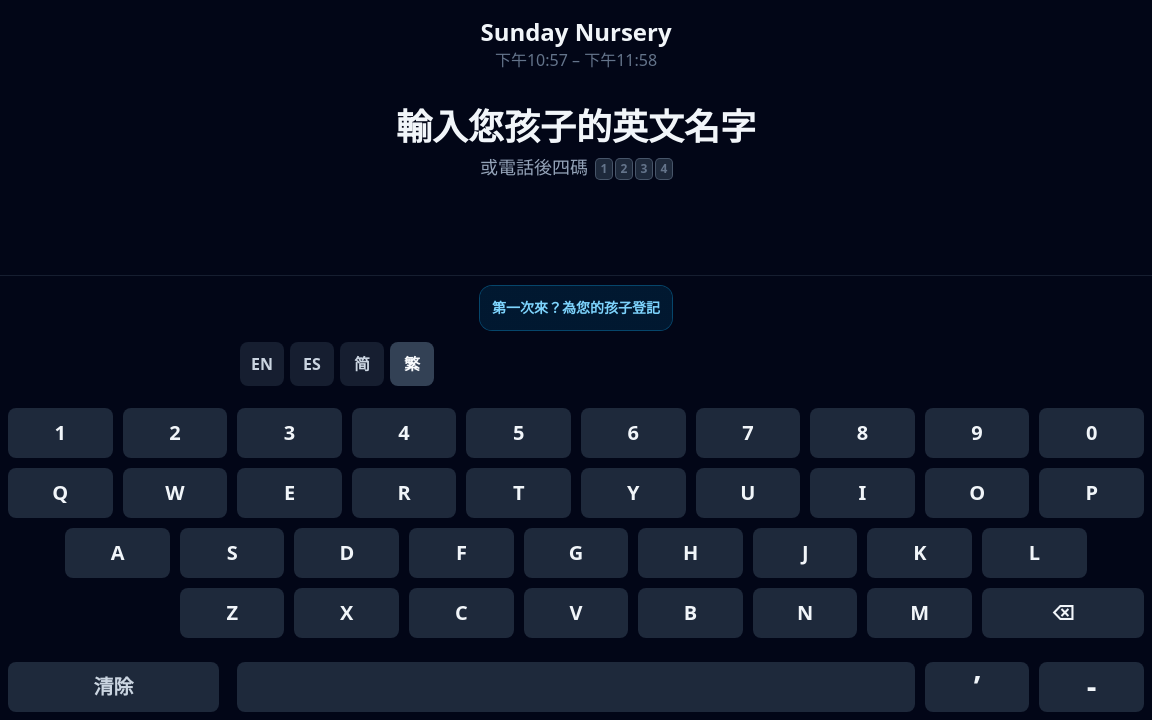
Test: a family’s language does not outlive their visit › keeps the language when a parent clears a mistyped name
Press the mouse on the button "Z" at coordinates (232, 613), box [180,588,284,638]
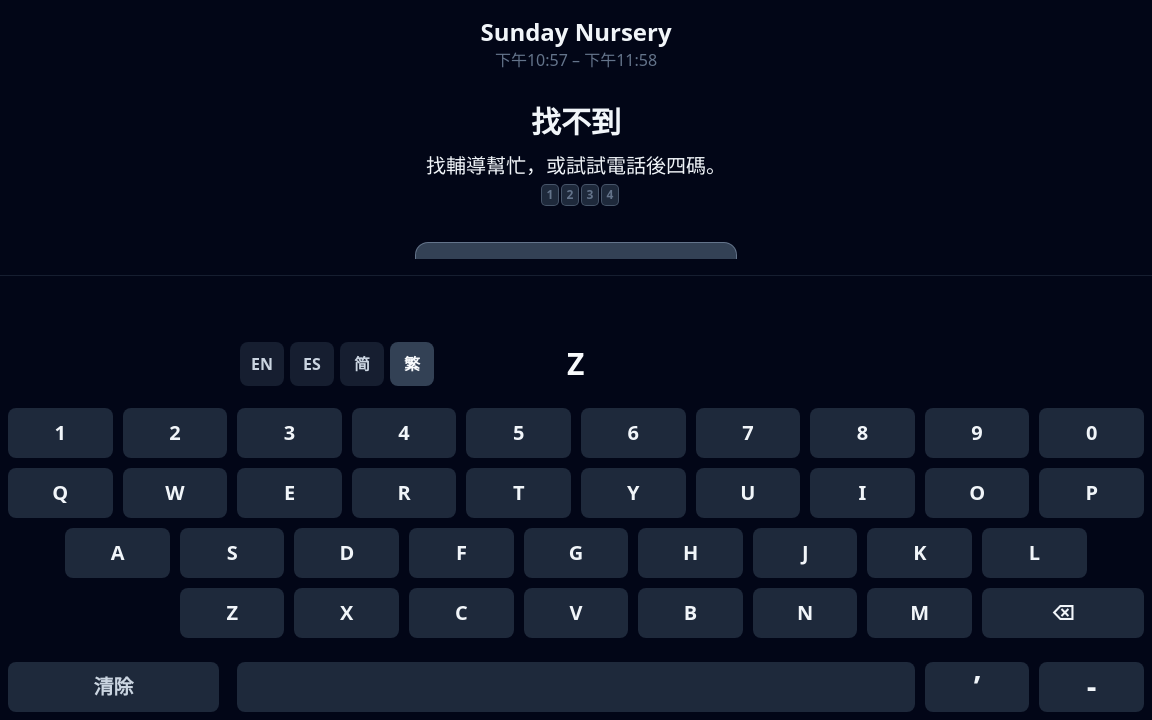
Press the mouse on the button "Z" at coordinates (232, 613), box [180,588,284,638]
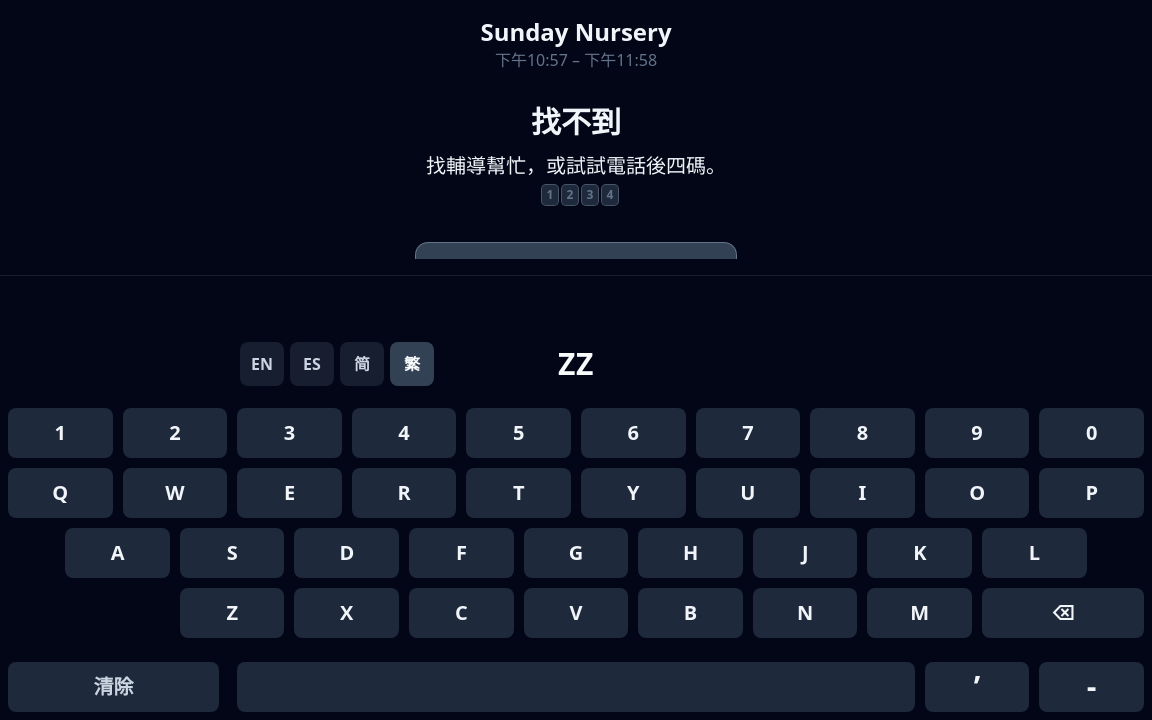
Press the mouse on the button "清除" at coordinates (114, 687), box [8,662,219,712]
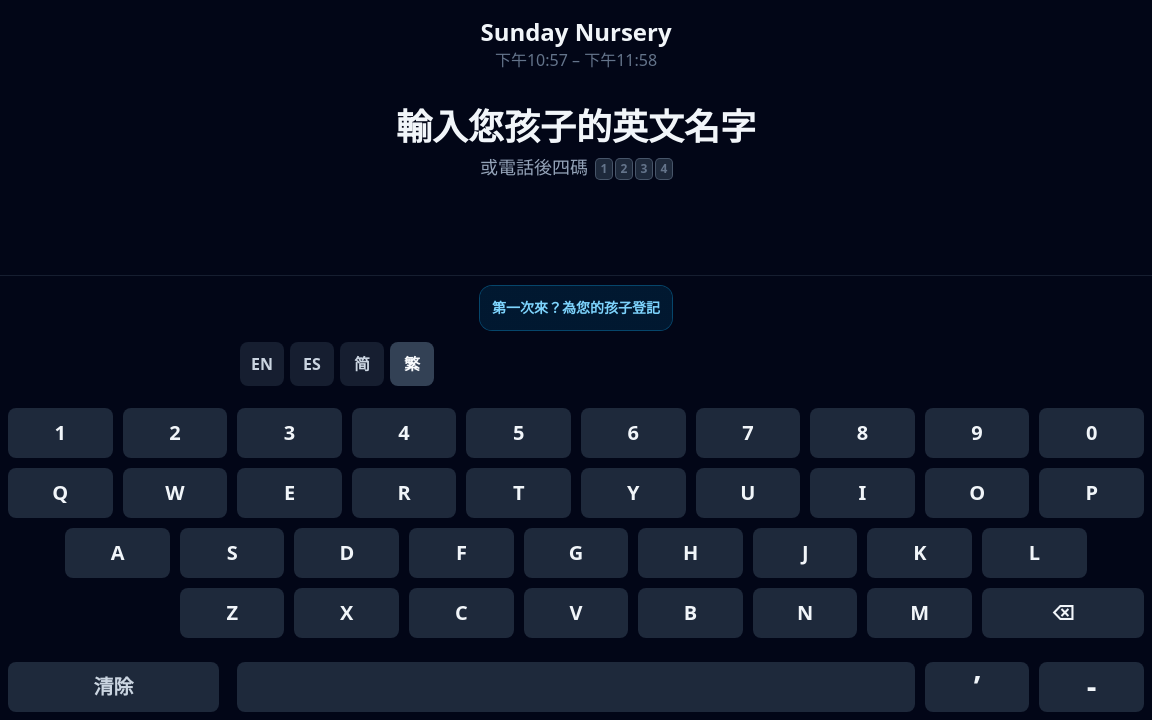
Now the text "輸入您孩子的英文名字" is shown, box [396,104,756,149]
